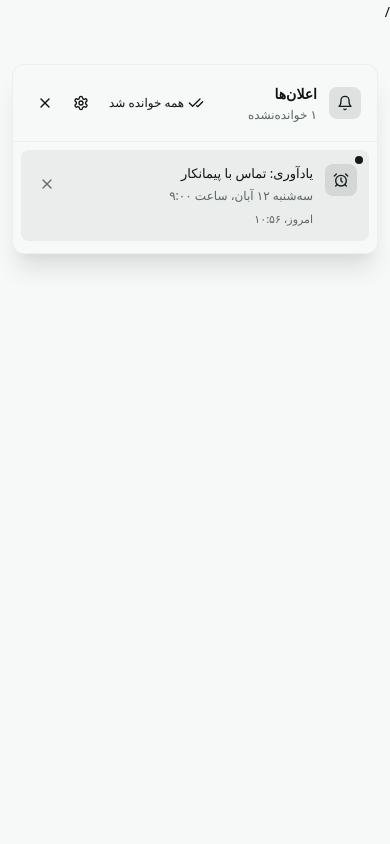
Scenario: notification center › opens a notification’s record and marks it read
Click the button named "خوانده‌نشده: یادآوری: تماس با پیمانکار": coordinates (193, 195) 73,162 -> 313,229
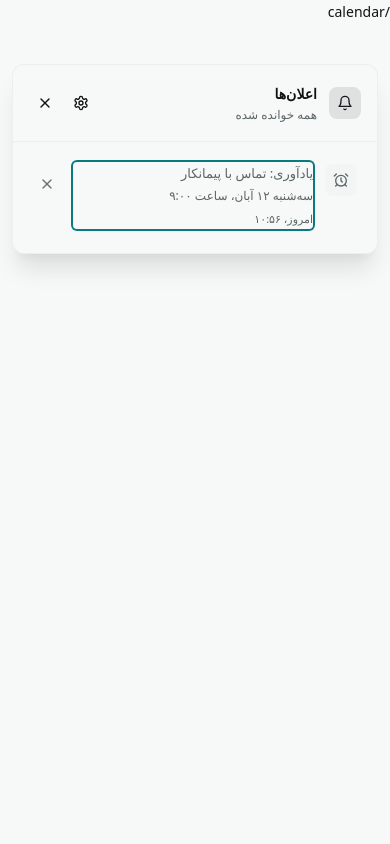
Expected: the text named "مسیر" reads "/calendar", 328,2 -> 389,21
